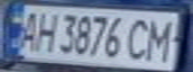3: (54, 10, 78, 55)
6: (103, 13, 130, 60)
7: (87, 12, 109, 57)
8: (72, 11, 93, 55)
A: (12, 8, 42, 52)
C: (124, 15, 154, 62)
H: (30, 8, 60, 53)
M: (142, 15, 181, 63)
